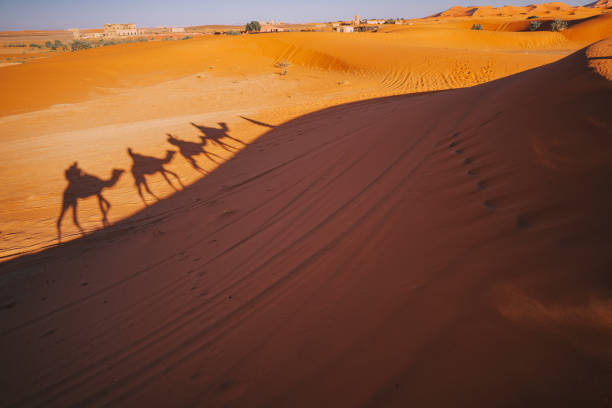human_footprint: (49, 151, 417, 407)
